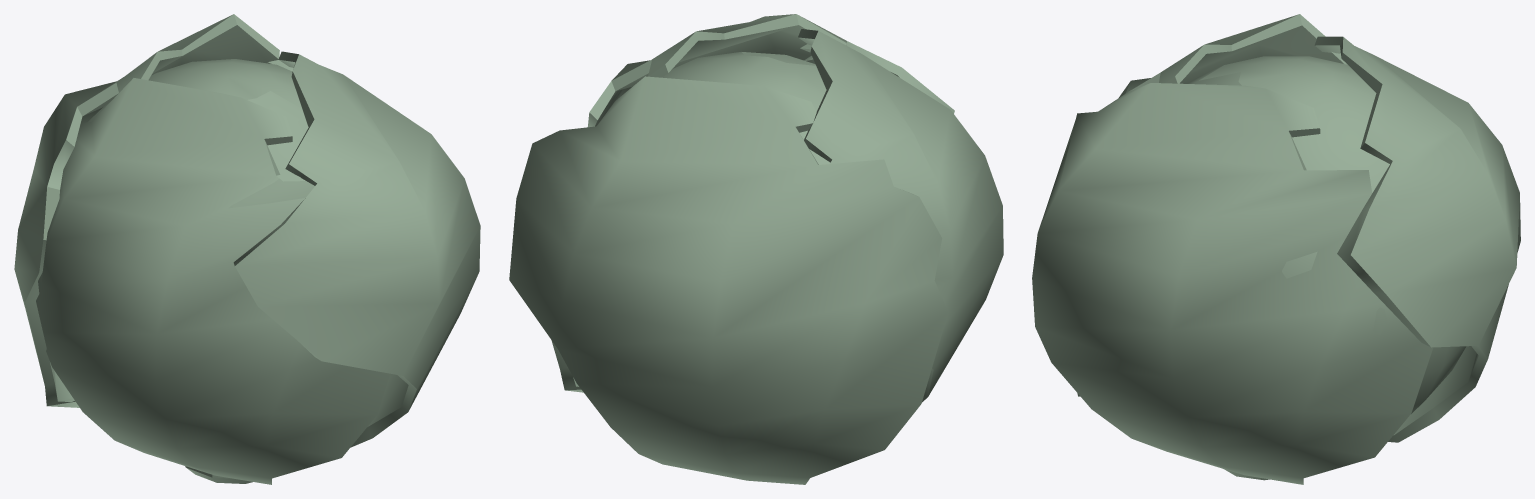
File: CabbageUVd.fbx
3 views of the same model, side by side, from view 1: azimuth 30°, elevation 25°; view 2: azimuth 150°, elevation 25°; view 3: azimuth 270°, elevation 25° (orthographic). The views are drawn at different scales.
Parts seen in each view (by area): view 1: polySurface44; view 2: polySurface44; view 3: polySurface44.
Part boxes in pixels (x1,y1,x2,y2): polySurface44: (14,14,480,484); polySurface44: (509,14,1003,484); polySurface44: (1032,14,1520,484).
Bounding box in the file's own units: 0.3161 × 0.3027 × 0.3319.
